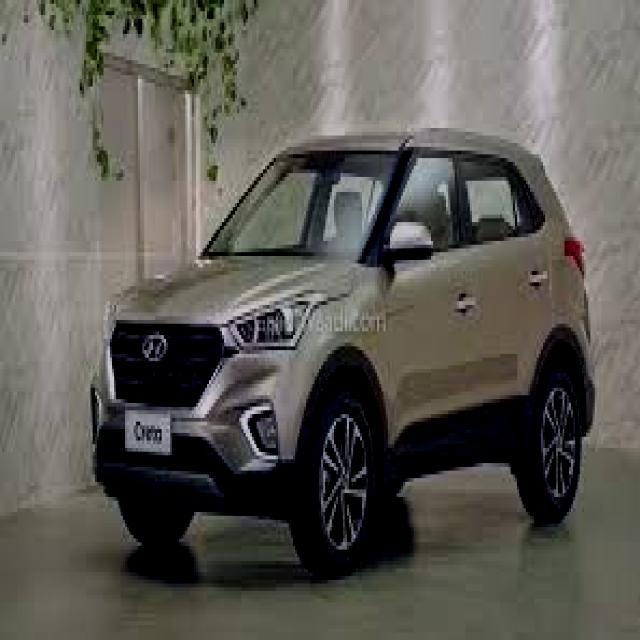SUV: (88, 128, 594, 582)
